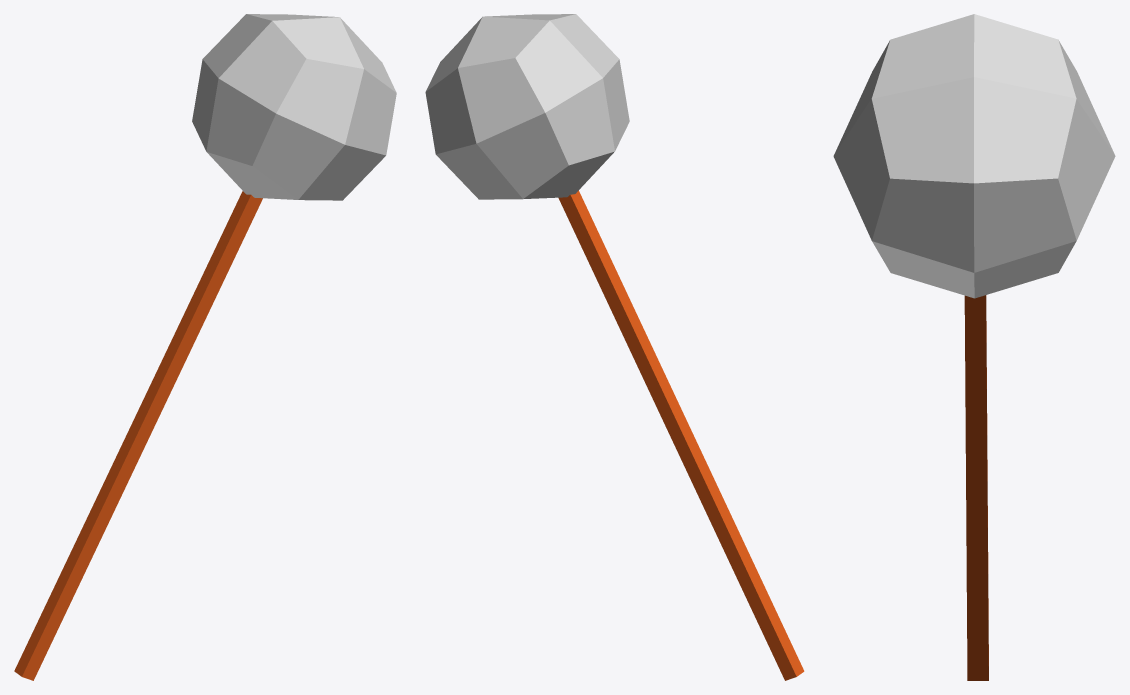
The model's file is Pendulocirculo.fbx.
The picture shows the model from 3 angles, left to right: view 1: azimuth 30°, elevation 25°; view 2: azimuth 150°, elevation 25°; view 3: azimuth 270°, elevation 25°; orthographic projection. The views are drawn at different scales.
Parts seen in each view (by area): view 1: Cube; view 2: Cube; view 3: Cube.
Part boxes in pixels (x1,y1,x2,y2): Cube: (14,14,396,680); Cube: (425,14,804,680); Cube: (833,14,1115,680).
Size of the model in its own units: 5405 by 8532 by 2628.
